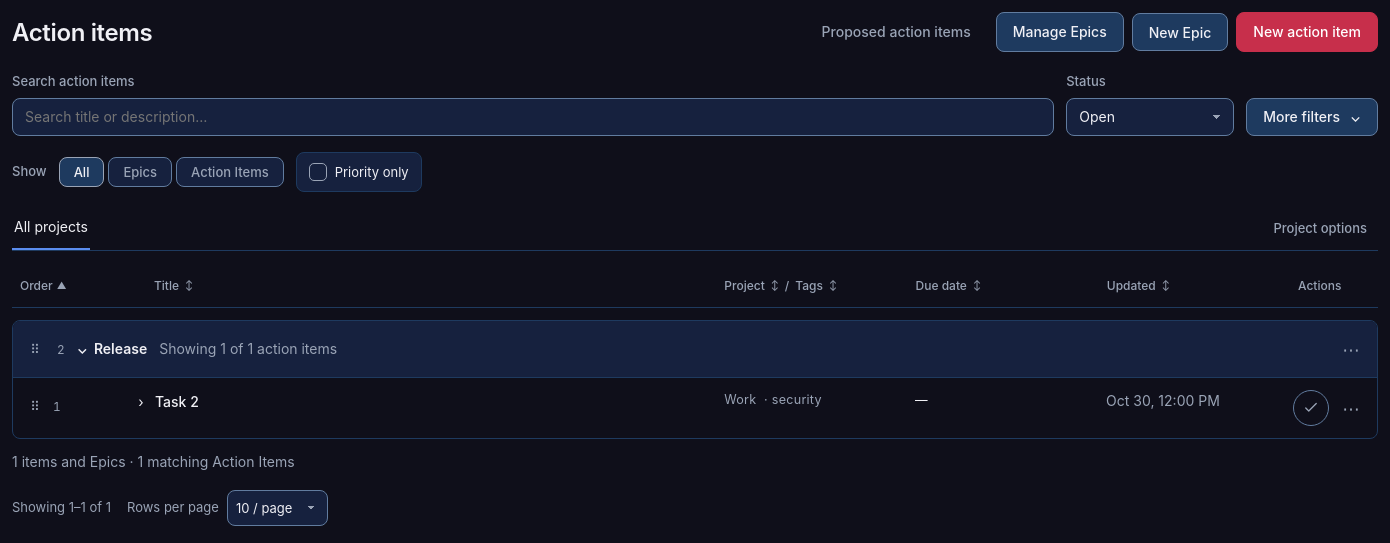
saved Action Item Epics › ignores a late response from the previous root type
Check: the button "› Task 2" is shown, box [133,390,708,415]
Click the button "Epics". click: x=140, y=172
box: [108,157,172,187]
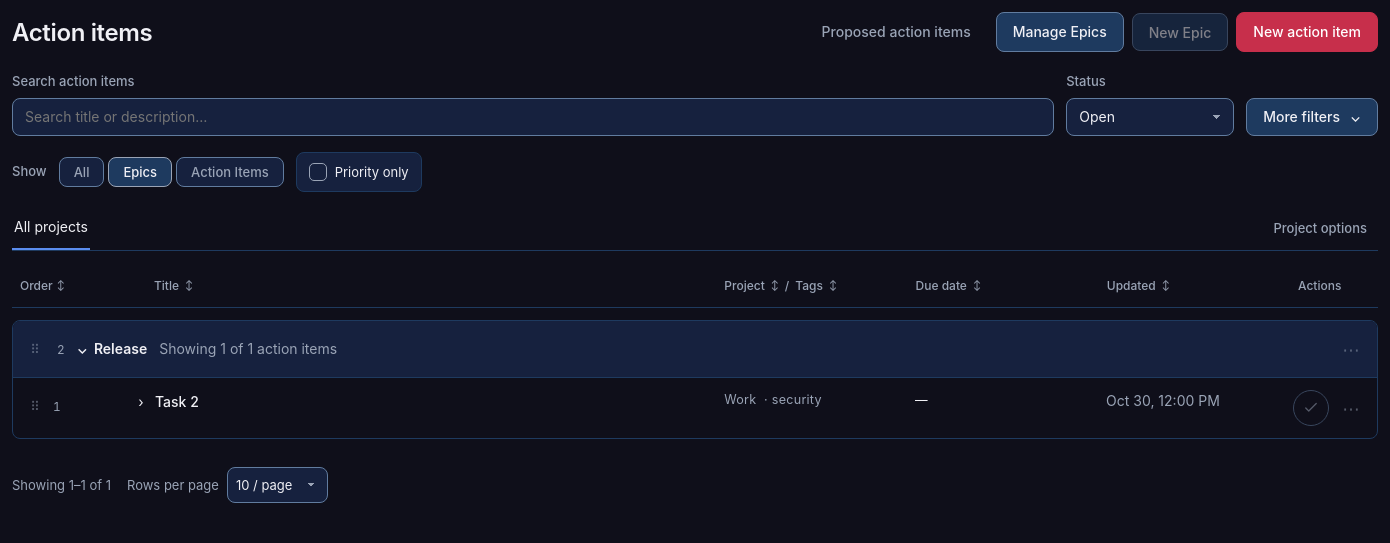
Click the button "Action Items". click: x=230, y=172
box: [176,157,284,187]
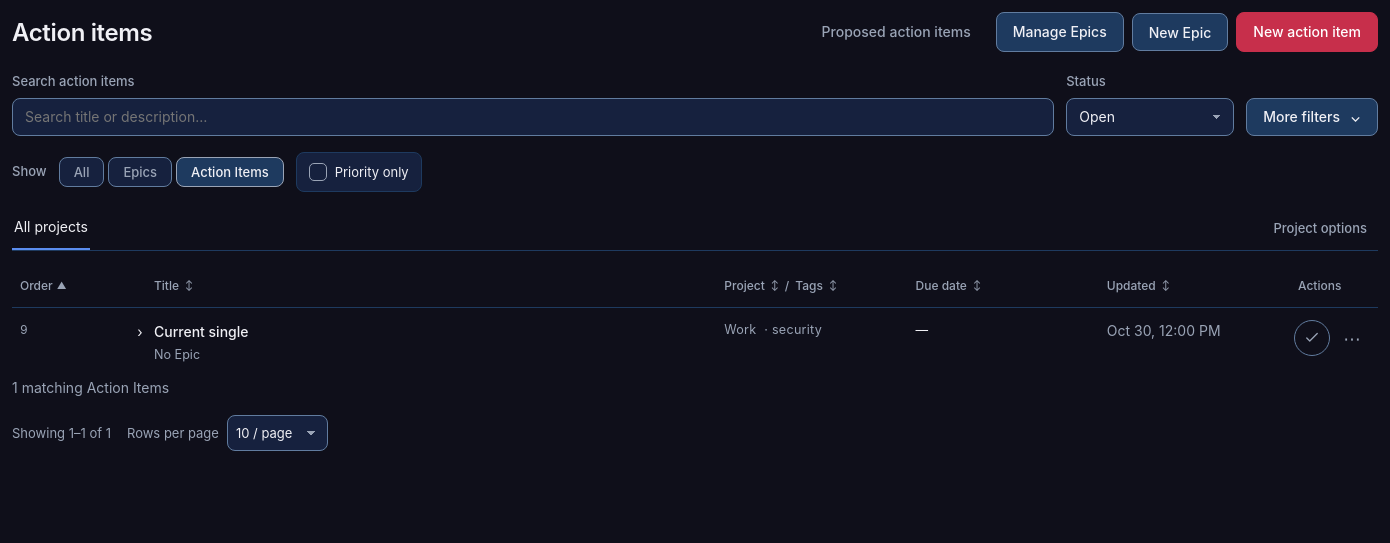
Check: the button "› Current single" is shown, box [132,320,708,345]
